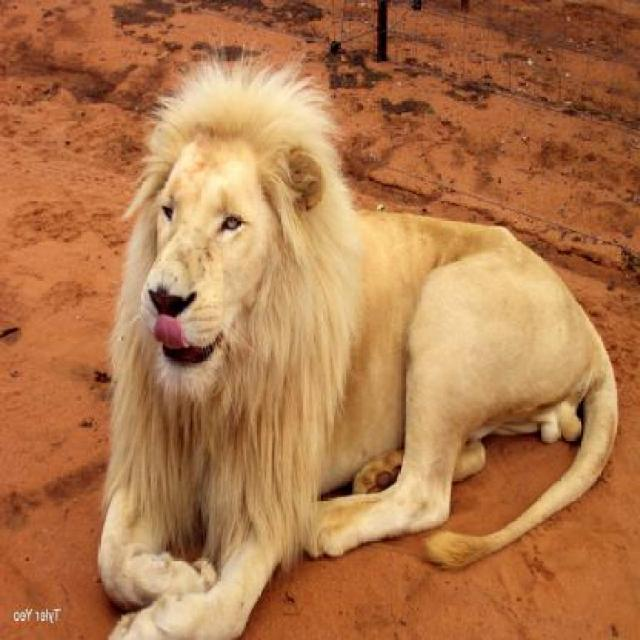Lion: (60, 56, 629, 638)
